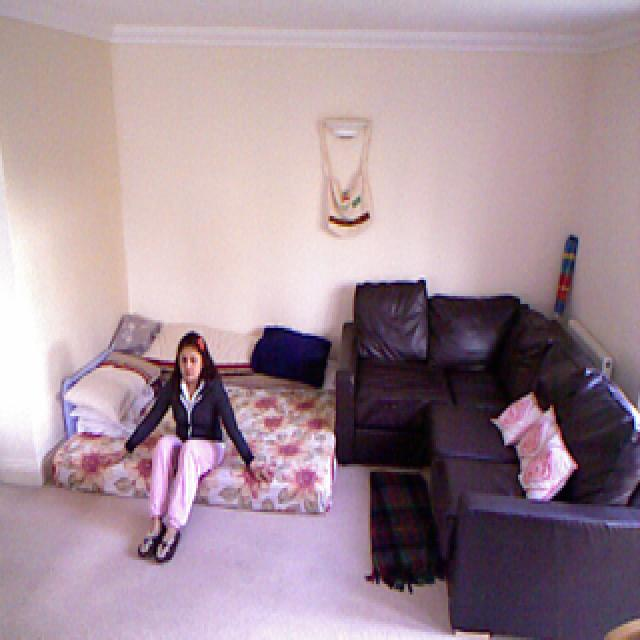sitting: (118, 327, 257, 564)
